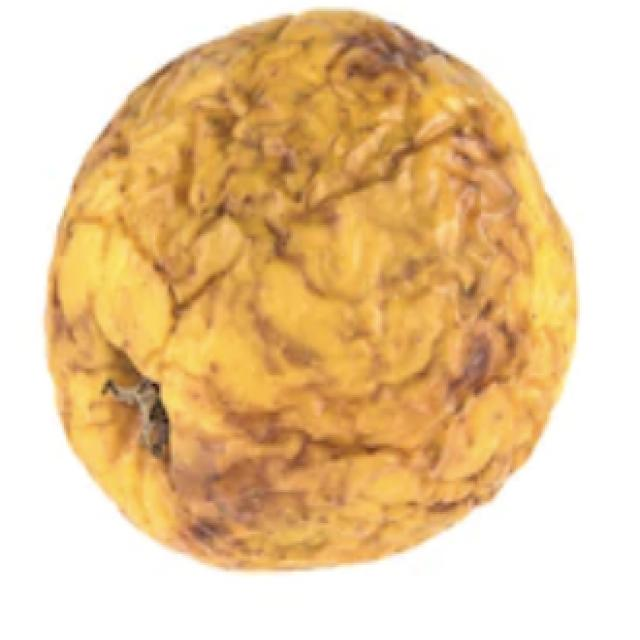rotten_apple: (45, 10, 575, 575)
